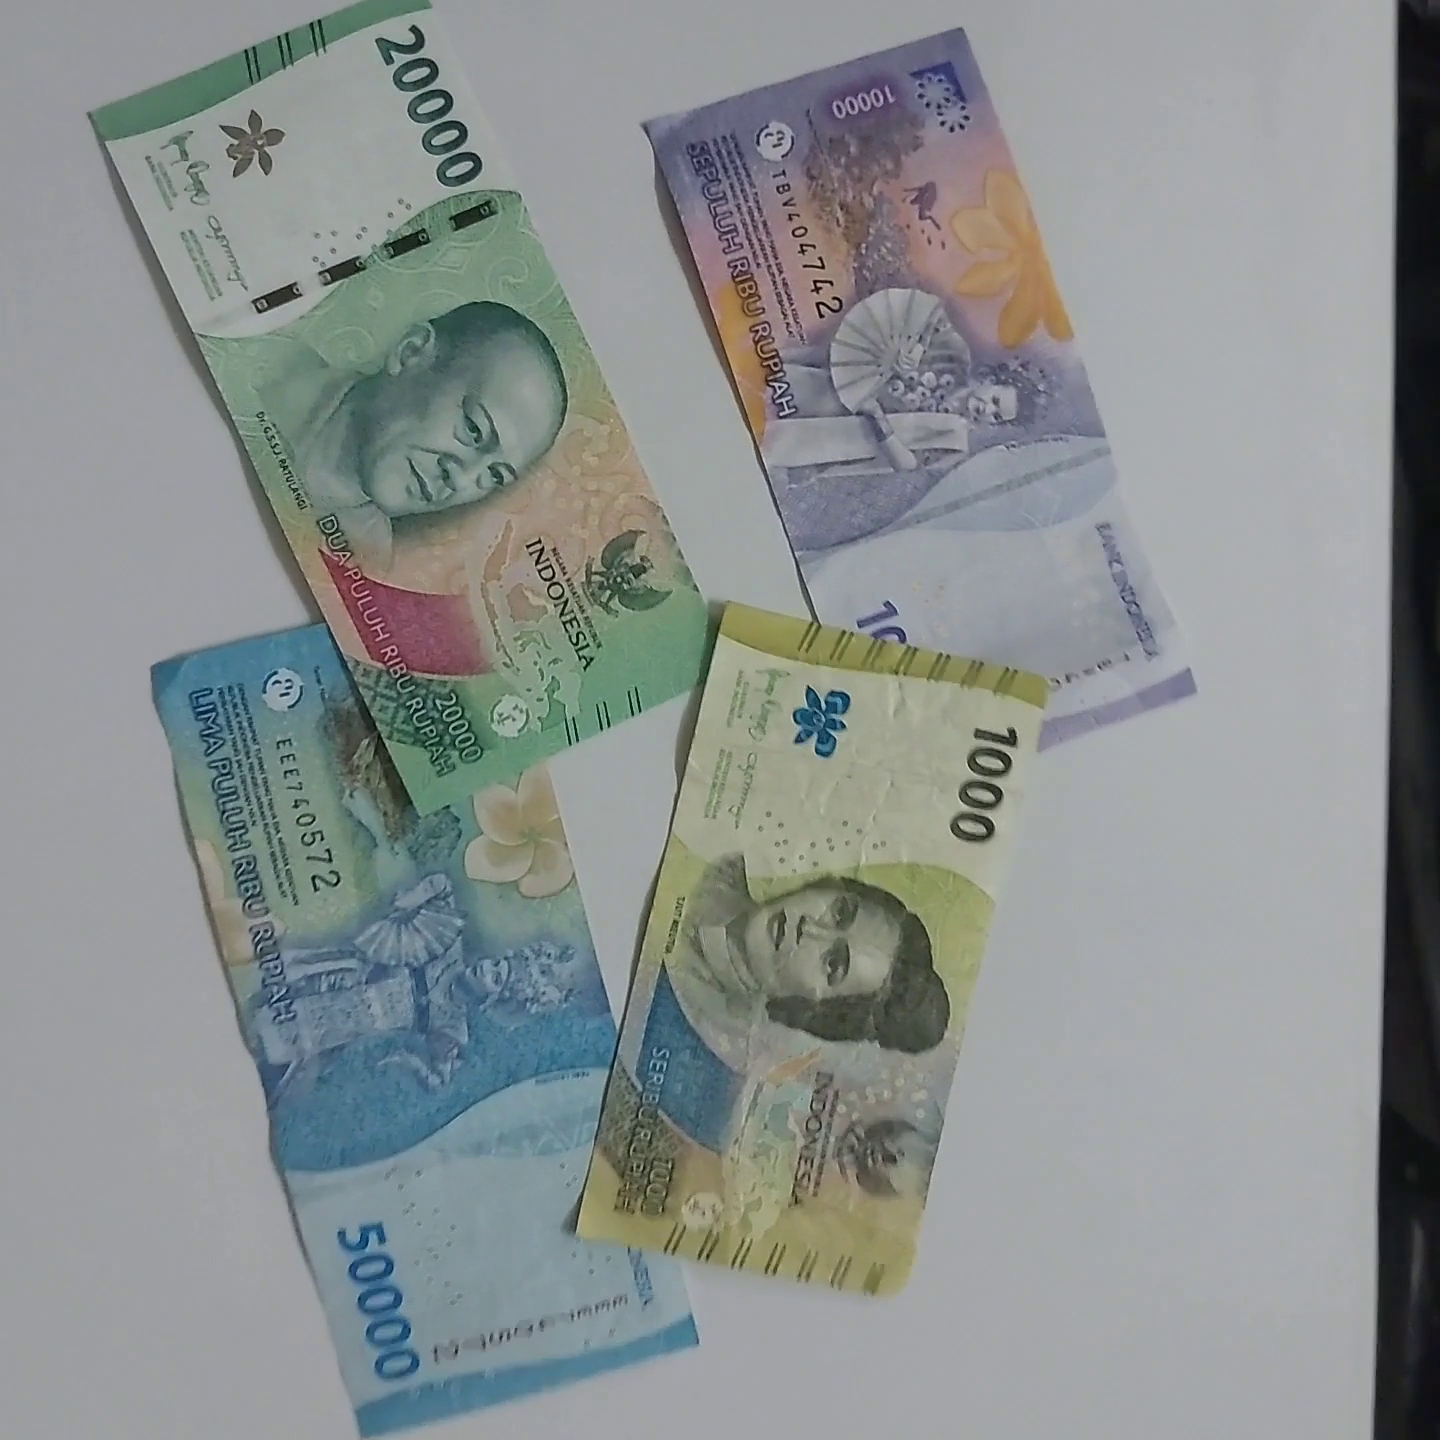10k: (649, 25, 1246, 766)
1k: (589, 567, 1075, 1328)
20k: (46, 5, 733, 823)
50k: (145, 615, 665, 1440)
